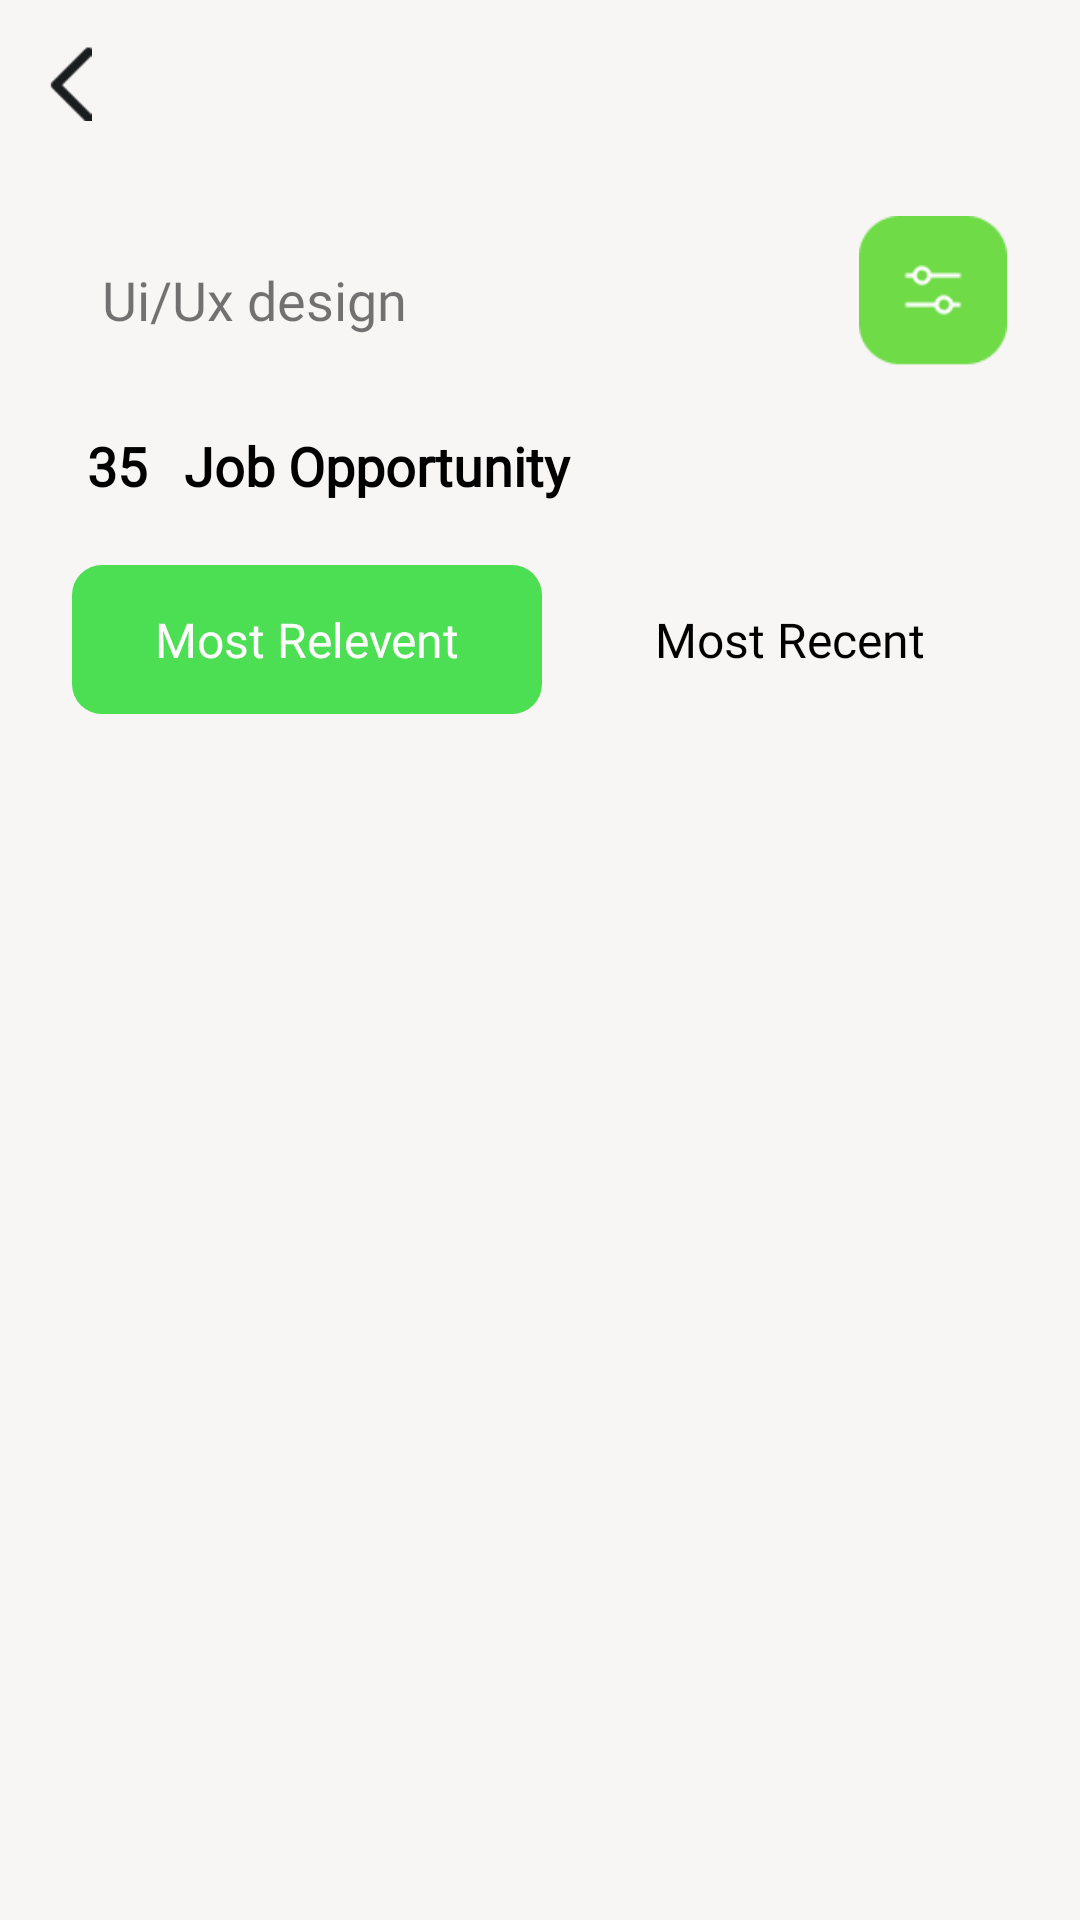

Named icons in this screenshot (1080 x 1920) and their centers, (x=x, y=y):
back: (x=71, y=84)
